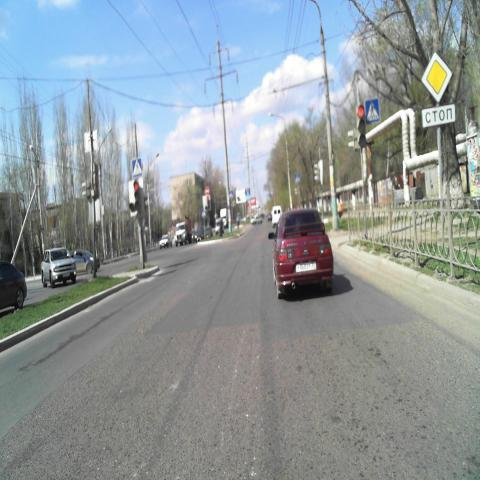2_1: (422, 51, 452, 102)
5_19_1: (363, 98, 379, 123), (130, 158, 142, 176)
6_16: (422, 107, 454, 127)
